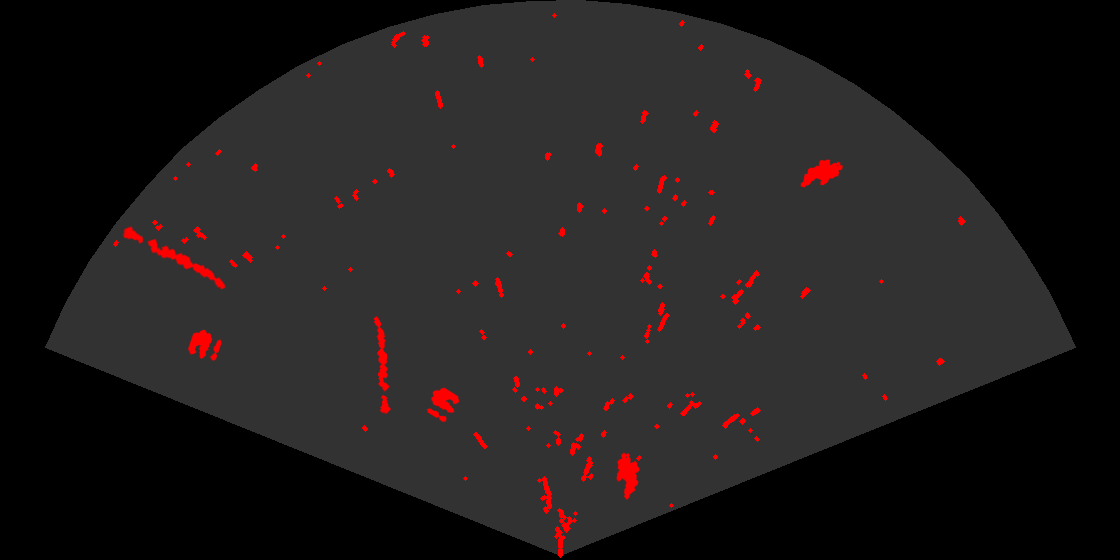AUV: (799, 158, 844, 189), (615, 451, 641, 501)
ball: (425, 386, 461, 424), (186, 328, 223, 363)
chain: (121, 225, 227, 291), (372, 315, 393, 414)
